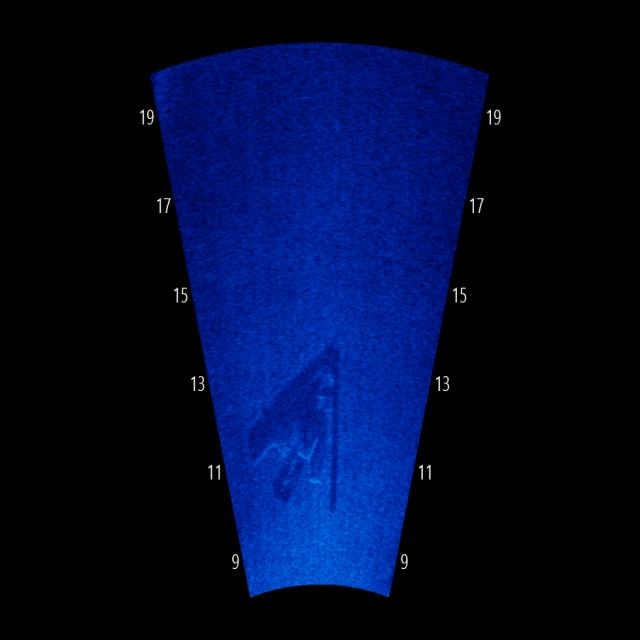triangle: (236, 326, 356, 521)
